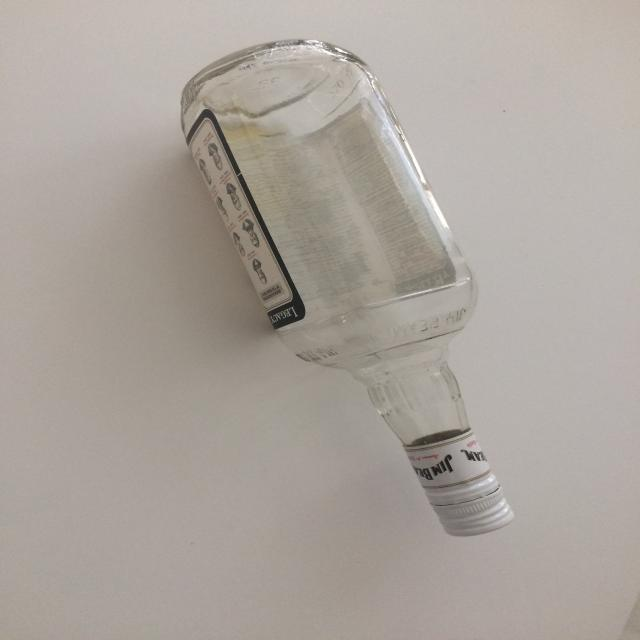glass: (180, 38, 518, 537)
